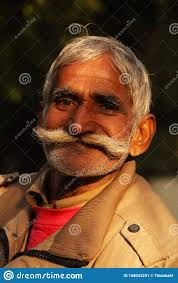Indian_Male: (50, 75, 131, 179)
